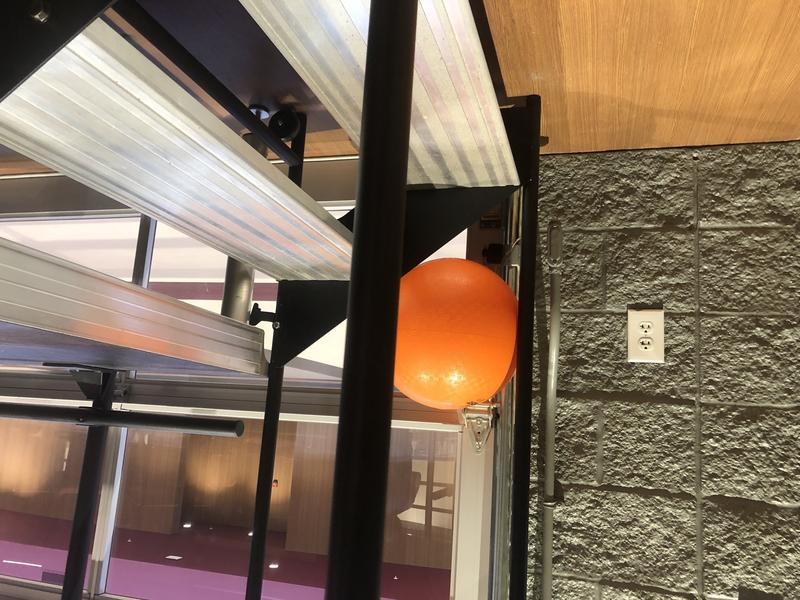ball: (386, 259, 519, 412)
